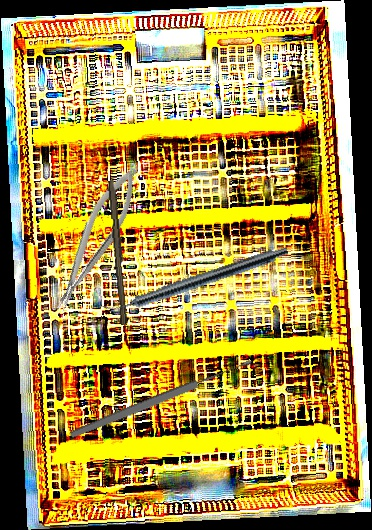Handpiece: (101, 241, 290, 320)
Needle Holder: (40, 160, 151, 317)
Scalpel Handle: (105, 179, 132, 326)
Surgical Spoon: (68, 356, 254, 441)
